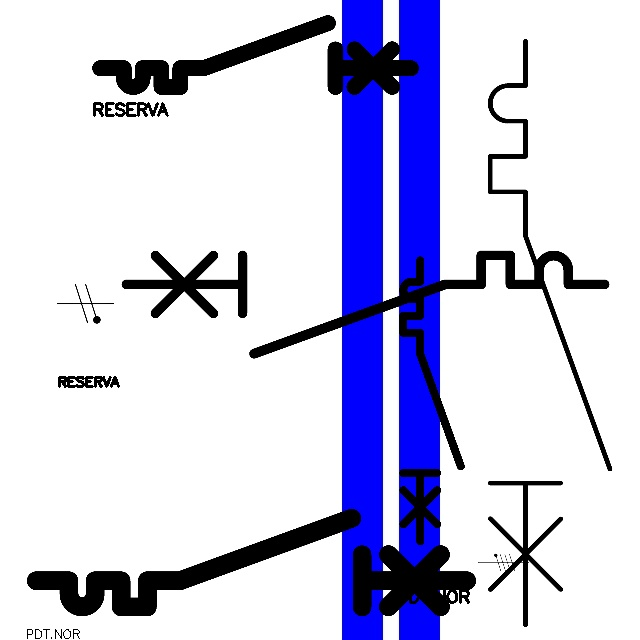interruptor_termomagnetico: (475, 26, 625, 640), (113, 243, 616, 366), (25, 507, 478, 618), (92, 15, 419, 95), (396, 253, 468, 548)
